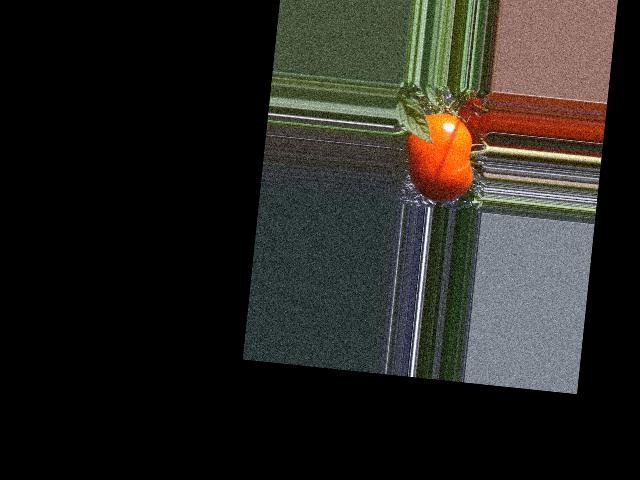tomato: (400, 109, 479, 204)
